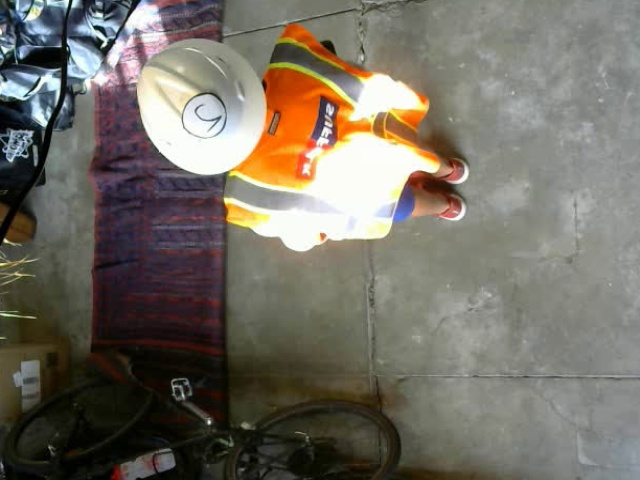two: (180, 91, 225, 138)
